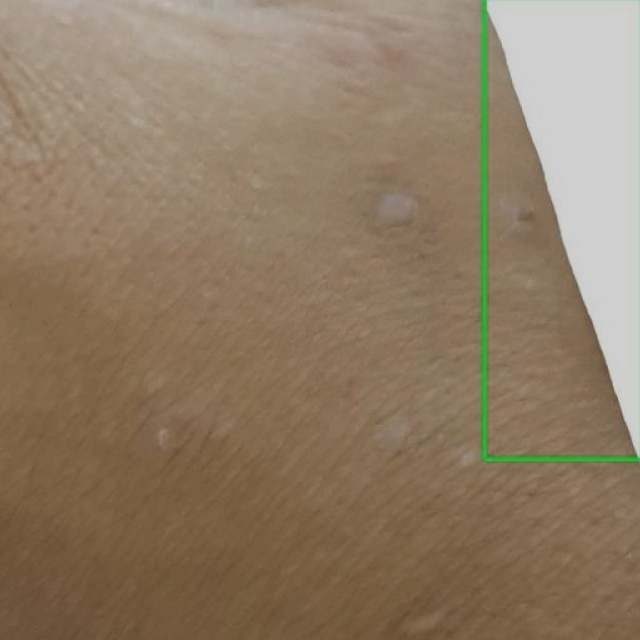Scabies: (484, 0, 639, 459)
